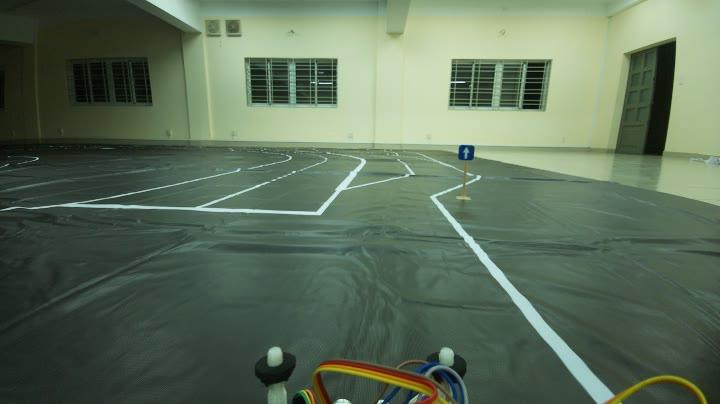onewayroad: (454, 142, 478, 162)
